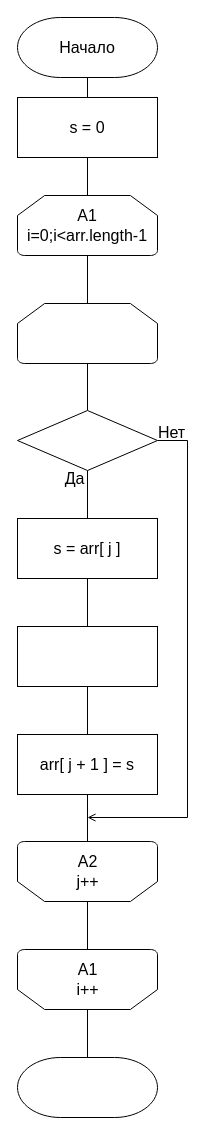
Image size: 213x1135. Some labels were removed from this diagram. Here are the shapes that lost their labels. From the top down, the centre of each, then its label:
the point at 87,333: A2 j=0;j<arr.length-1
the point at 87,440: arr[j]>arr[j+1]
the point at 87,656: arr[ j ] = arr[ j + 1]
the point at 87,1087: Конец
